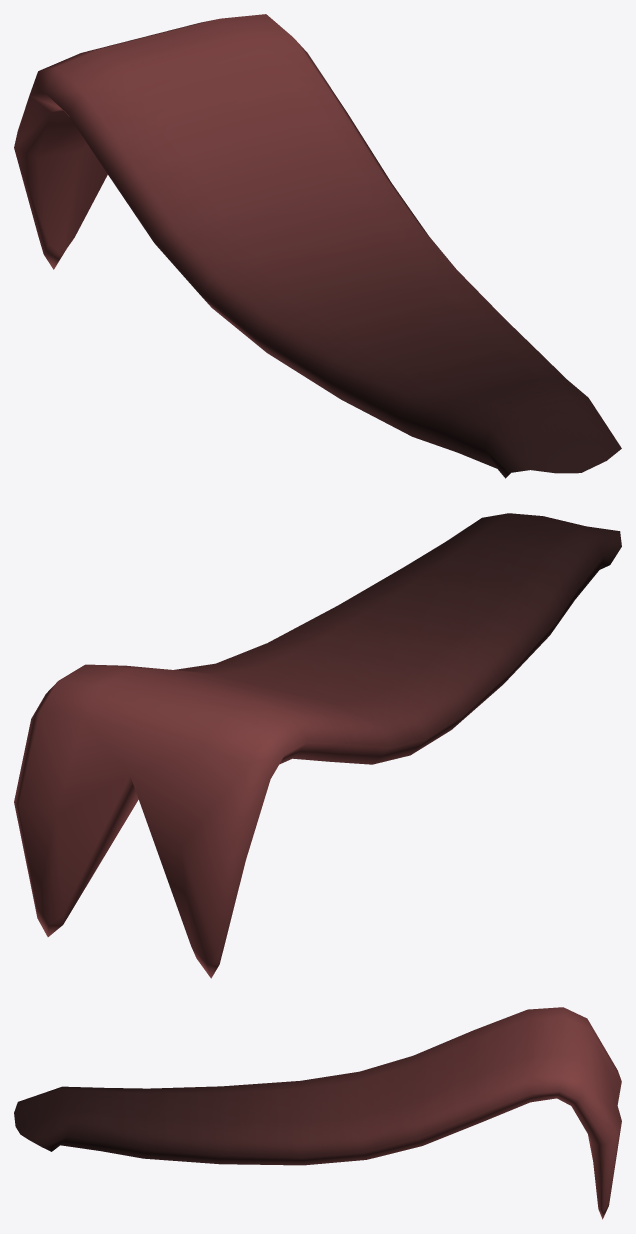
The model's file is forked.glb.
3 renders of one model, top to bottom at view 1: azimuth 30°, elevation 25°; view 2: azimuth 150°, elevation 25°; view 3: azimuth 270°, elevation 25°, orthographic. The views are drawn at different scales.
Parts seen in each view (by area): view 1: cs_forked4; view 2: cs_forked4; view 3: cs_forked4.
Boxes of the visible parts, x1,y1,x2,y2 form: cs_forked4: (14,14,621,478); cs_forked4: (14,513,621,978); cs_forked4: (14,1007,621,1219).
Size of the model in its own units: 0.2704 by 0.2565 by 0.8979.
1 material, 1 textured.
